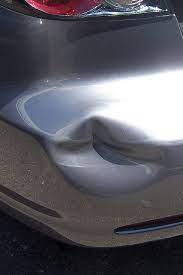rear-bumper-dent: (0, 57, 182, 254)
